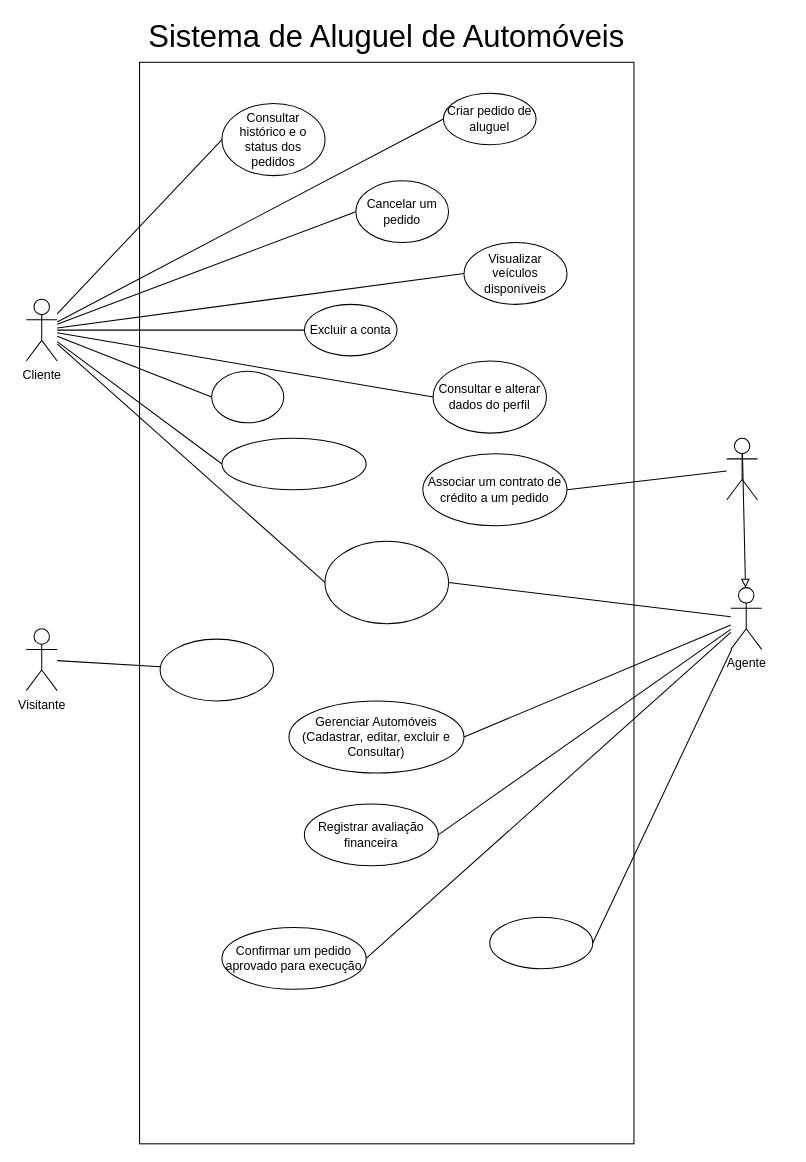
Image size: 806x1162. Some labels were removed from this diagram. The shapes that lost their labels are listed below. From the top down, each one's centre as x and y in pixels, then its label:
the point at 247,396: Editar um pedido
the point at 293,463: Gerenciar vínculos empregatícios
the point at 742,468: Agente de Banco
the point at 386,582: Fazer Login
the point at 216,669: Cadastrar como cliente ou agente
the point at 541,942: Listar pedidos pendentes
